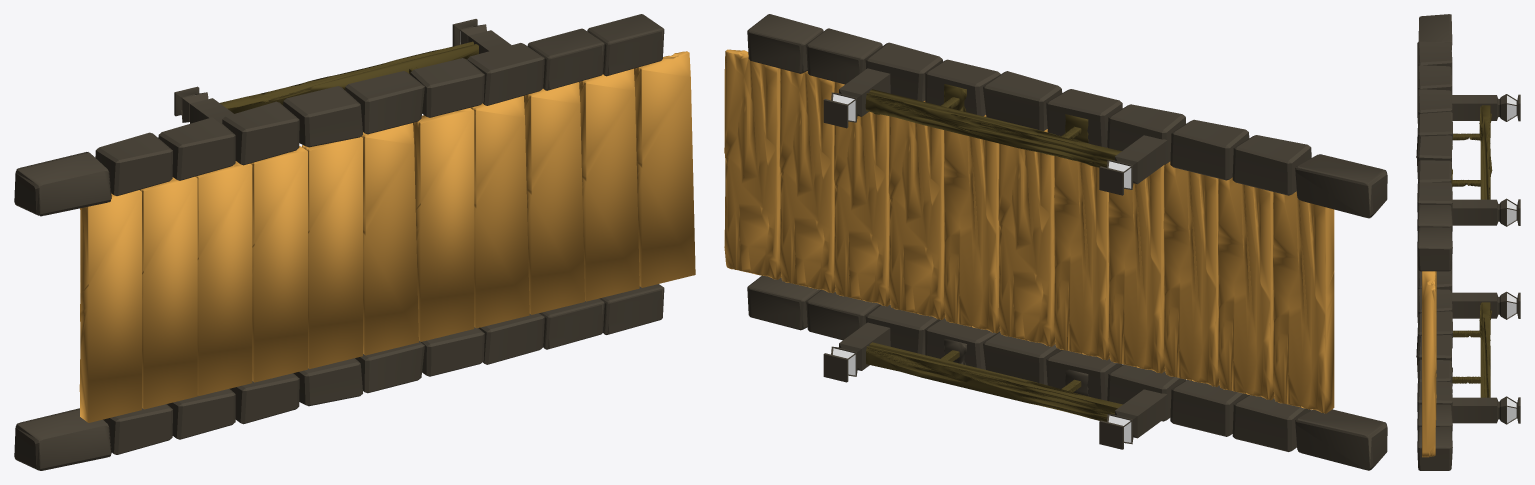
The model's file is bridgeToCorner.fbx.
3 renders of one model, left to right at view 1: azimuth 30°, elevation 25°; view 2: azimuth 150°, elevation 25°; view 3: azimuth 270°, elevation 25°, orthographic. The views are drawn at different scales.
Parts seen in each view (by area): view 1: Cube.012; view 2: Cube.012; view 3: Cube.012.
Boxes of the visible parts, x1,y1,x2,y2 form: Cube.012: (14, 14, 695, 470); Cube.012: (724, 14, 1387, 470); Cube.012: (1416, 14, 1520, 470).
Bounding box in the file's own units: 1437 × 613 × 254.
